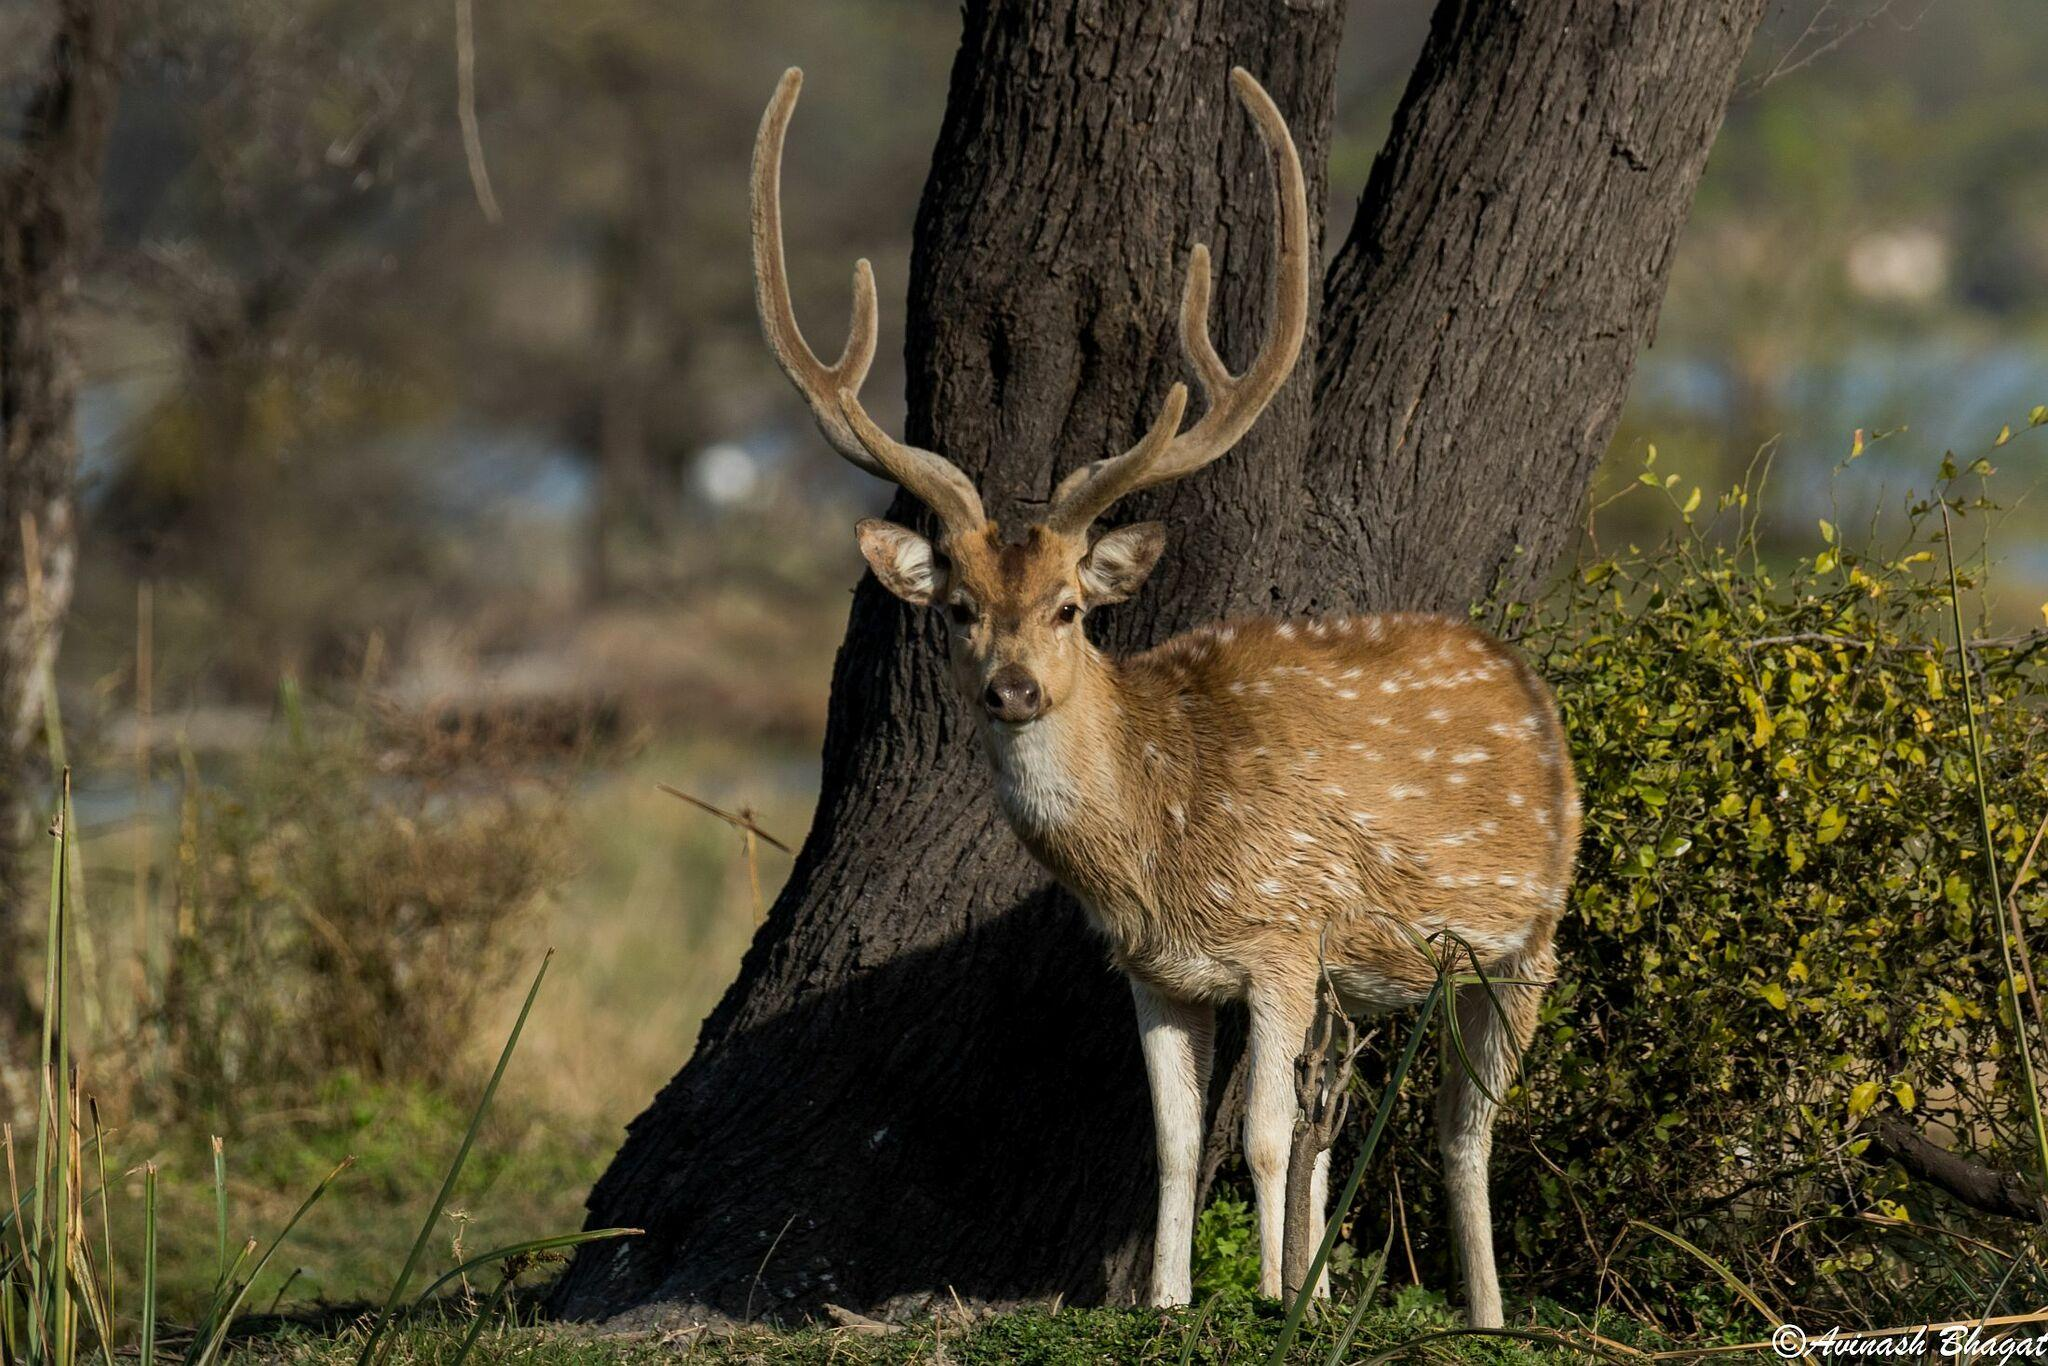Deer: (753, 69, 1580, 1326)
